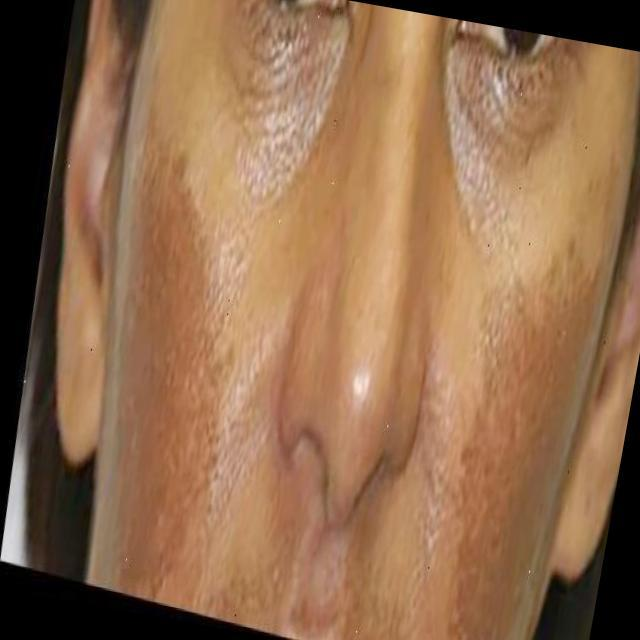pigmentation: (458, 58, 532, 207), (248, 11, 316, 167)
